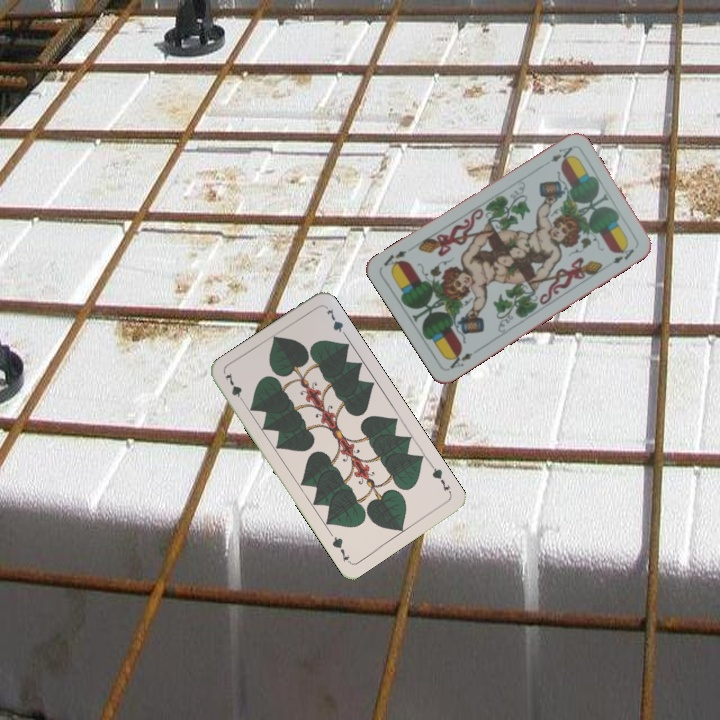EA: (445, 347, 475, 371), (546, 142, 575, 165)
G7: (221, 369, 248, 407), (427, 460, 454, 497)
